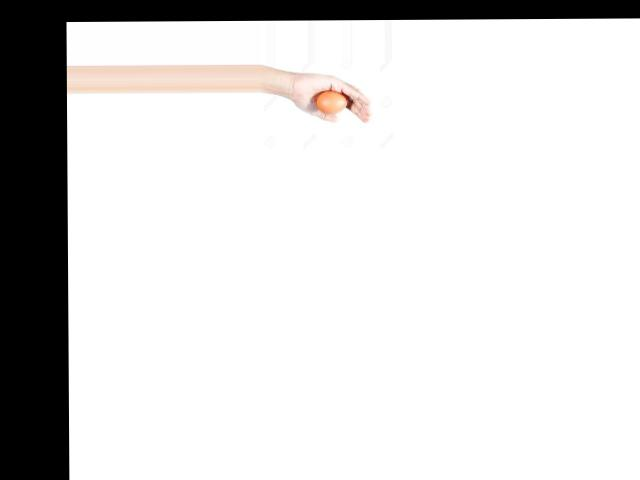egg: (316, 90, 346, 113)
